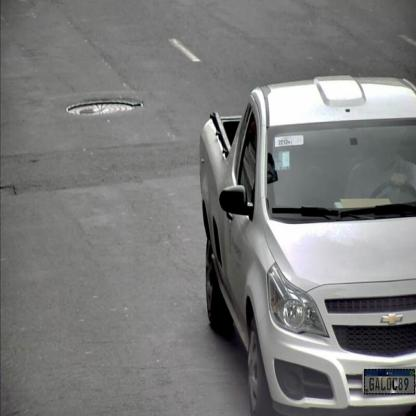PlacaM: (364, 369, 415, 394)
